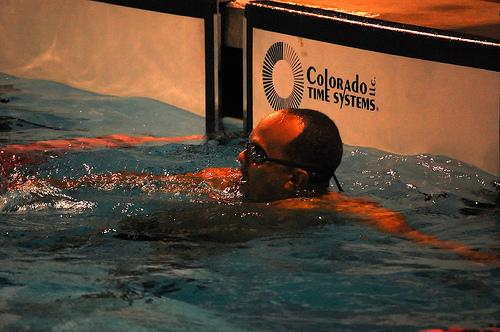swimmer: (43, 106, 495, 266)
